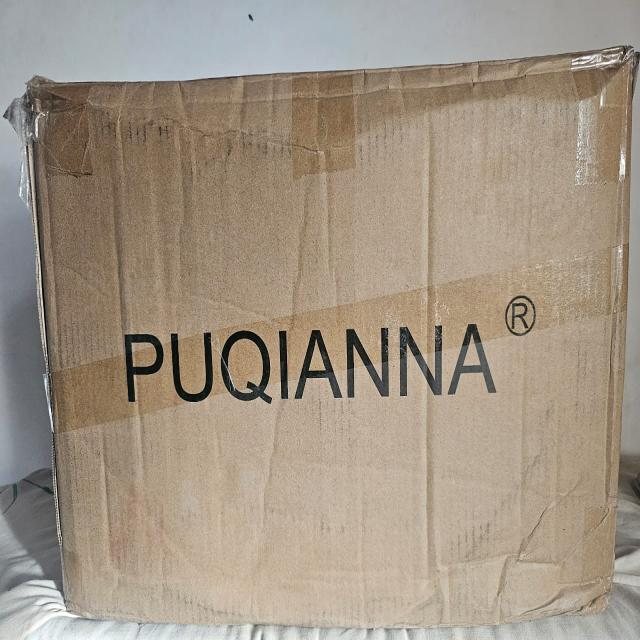carton_box: (12, 45, 640, 640)
package_damage: (12, 71, 70, 168)
